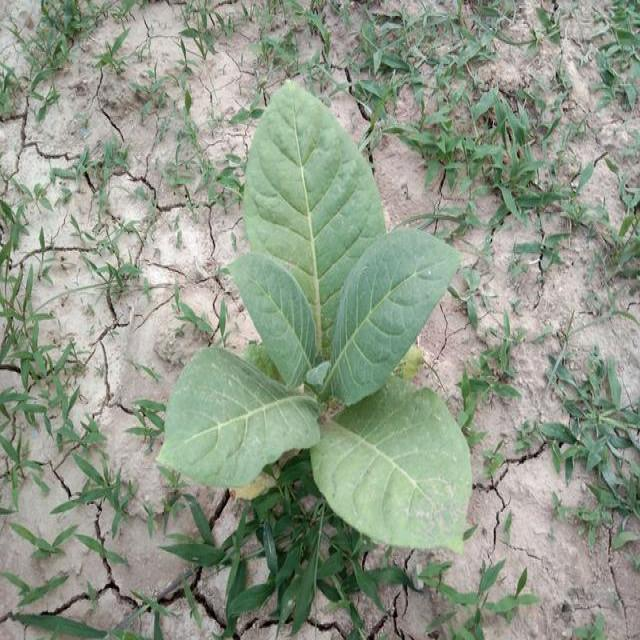crop: (155, 73, 476, 560)
